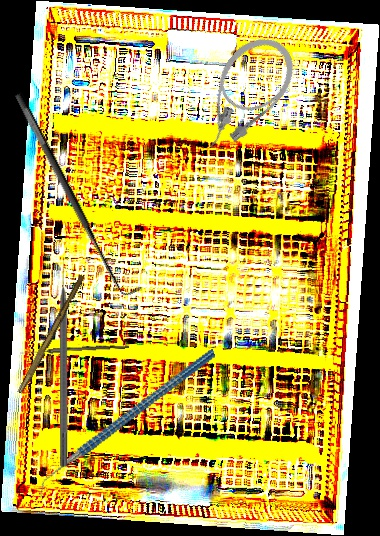Cannula: (178, 24, 308, 162)
Chopper: (13, 348, 241, 501)
Hook Surgical: (11, 83, 145, 306), (60, 260, 70, 467)
Scalpel Handle: (17, 273, 86, 396)
Surgical Spoon: (19, 343, 130, 356)
